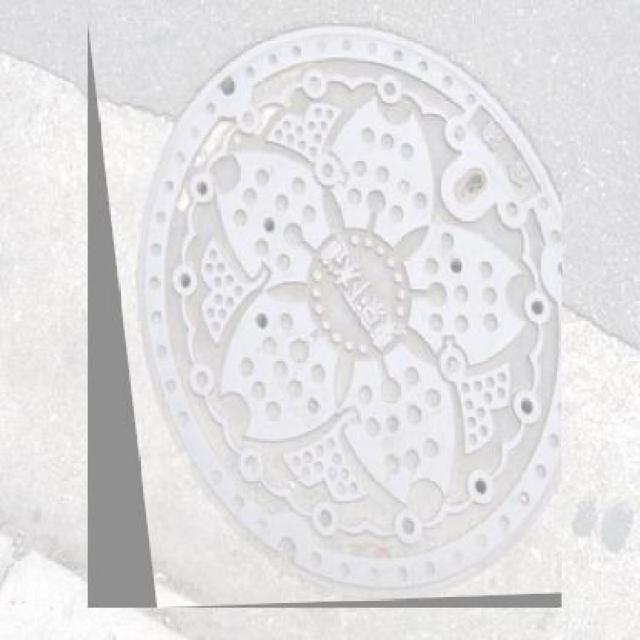Manhole: (88, 20, 562, 608)
